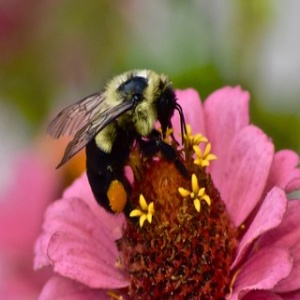bee: (45, 68, 202, 218)
